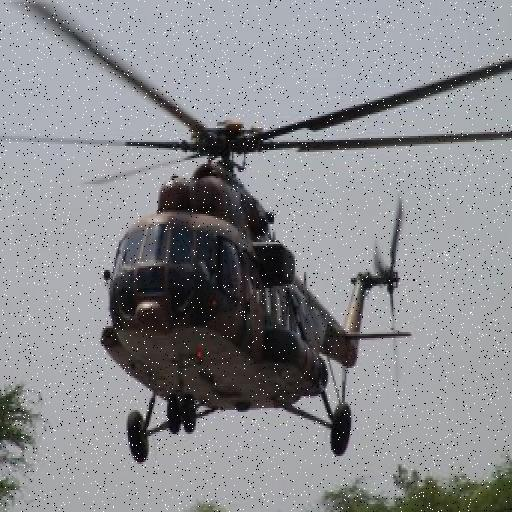helicopter: (1, 1, 512, 455)
